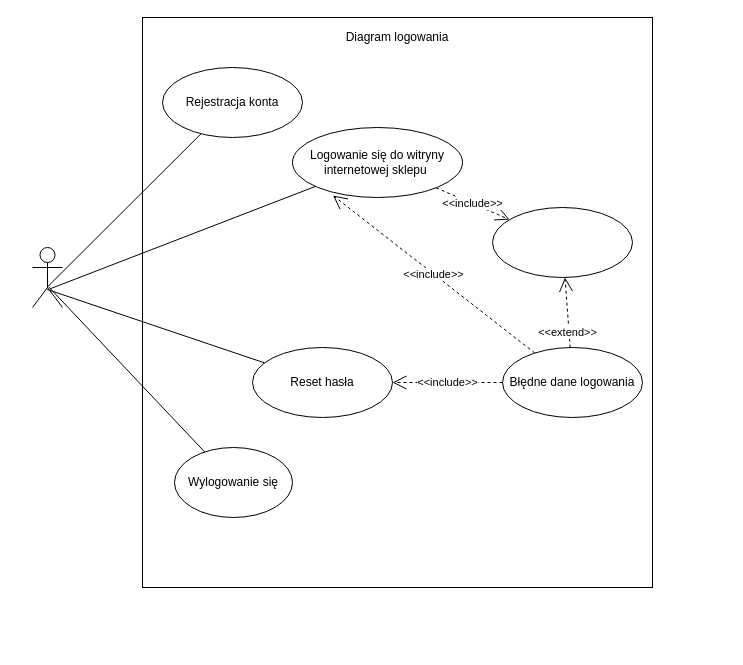
Image size: 743x665. Some labels were removed from this diagram. Each missing label, with the centre of its shape:
"Użytkownik" belongs at point 47,277.
"Weryfikacja danych" belongs at point 562,242.
